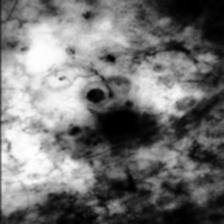Potentially Malignant Skin Tumors: (100, 108, 142, 138)
